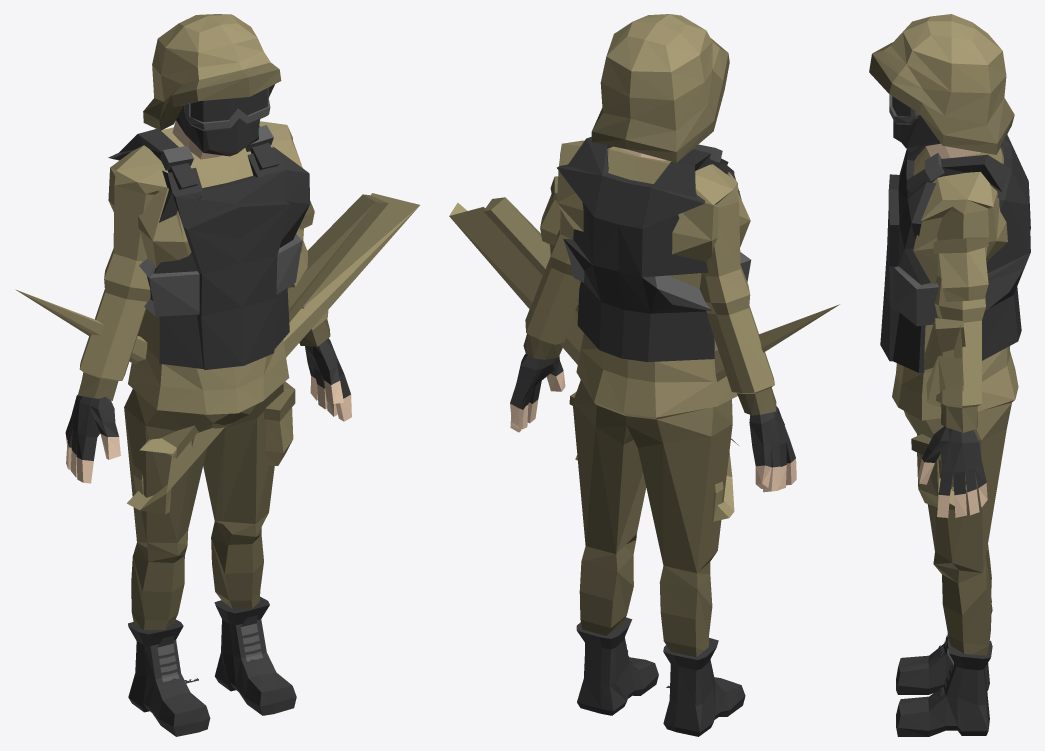
File: Inf.glb
3 views of the same model, side by side, from view 1: azimuth 30°, elevation 25°; view 2: azimuth 150°, elevation 25°; view 3: azimuth 270°, elevation 25° (orthographic).
Visible parts, largest first — view 1: Object_78, Object_82, Object_83, Object_85, Object_86; view 2: Object_82, Object_83, Object_78, Object_86, Object_85; view 3: Object_82, Object_78, Object_83, Object_85, Object_86.
Boxes of the visible parts, bbox=[...] form: Object_78: bbox=[65, 88, 350, 736]; Object_82: bbox=[15, 14, 419, 514]; Object_83: bbox=[78, 62, 388, 629]; Object_85: bbox=[139, 87, 302, 682]; Object_86: bbox=[65, 120, 351, 483]; Object_82: bbox=[449, 14, 839, 521]; Object_83: bbox=[483, 38, 776, 656]; Object_78: bbox=[510, 137, 795, 736]; Object_86: bbox=[510, 148, 796, 492]; Object_85: bbox=[563, 144, 751, 310]; Object_82: bbox=[884, 14, 1018, 509]; Object_78: bbox=[880, 96, 1030, 736]; Object_83: bbox=[869, 42, 1014, 655]; Object_85: bbox=[889, 94, 1023, 696]; Object_86: bbox=[918, 143, 987, 517].
Size of the model in its own units: 1908 by 3176 by 678.
